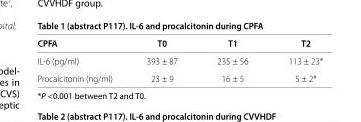table: (36, 36, 322, 83)
table column: (36, 36, 128, 83), (196, 36, 267, 83), (128, 36, 196, 83), (267, 36, 322, 83)
table column header: (36, 36, 322, 51)
table row: (36, 51, 322, 69), (36, 36, 322, 51), (36, 69, 322, 83)
